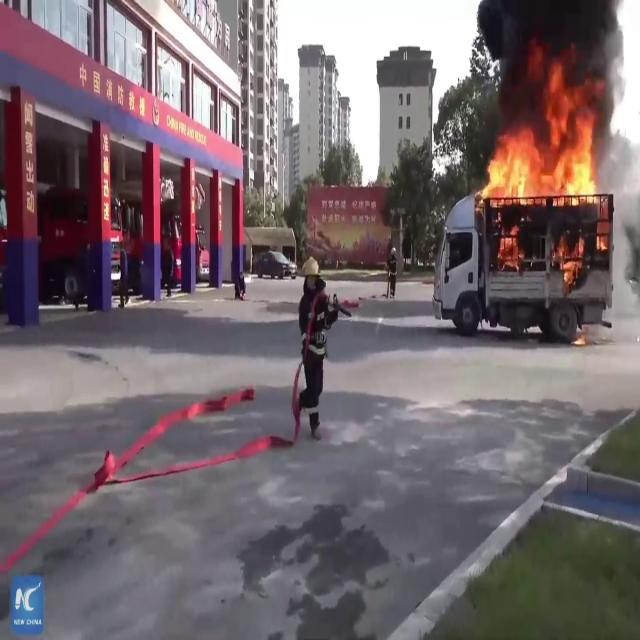Fire: (475, 74, 609, 266)
Smoke: (471, 0, 637, 132)
